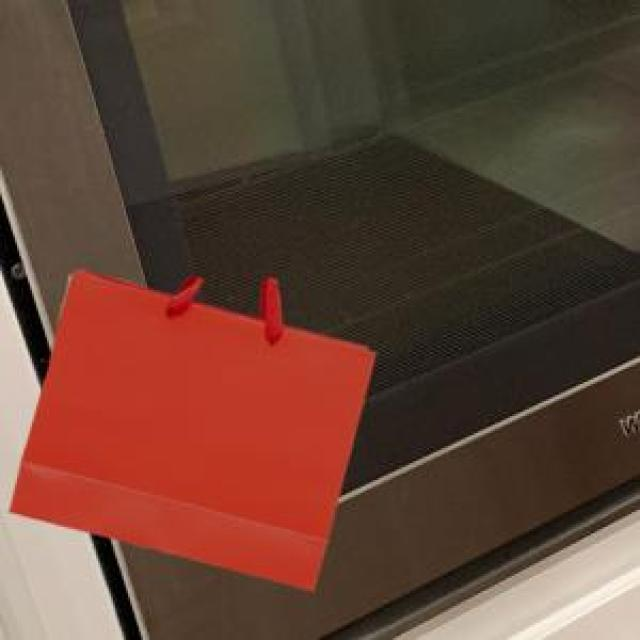paper: (6, 267, 371, 587)
